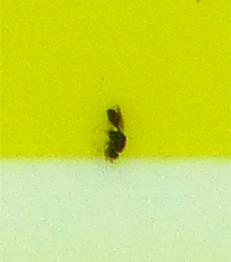Hymenoptera: (100, 100, 131, 162)
